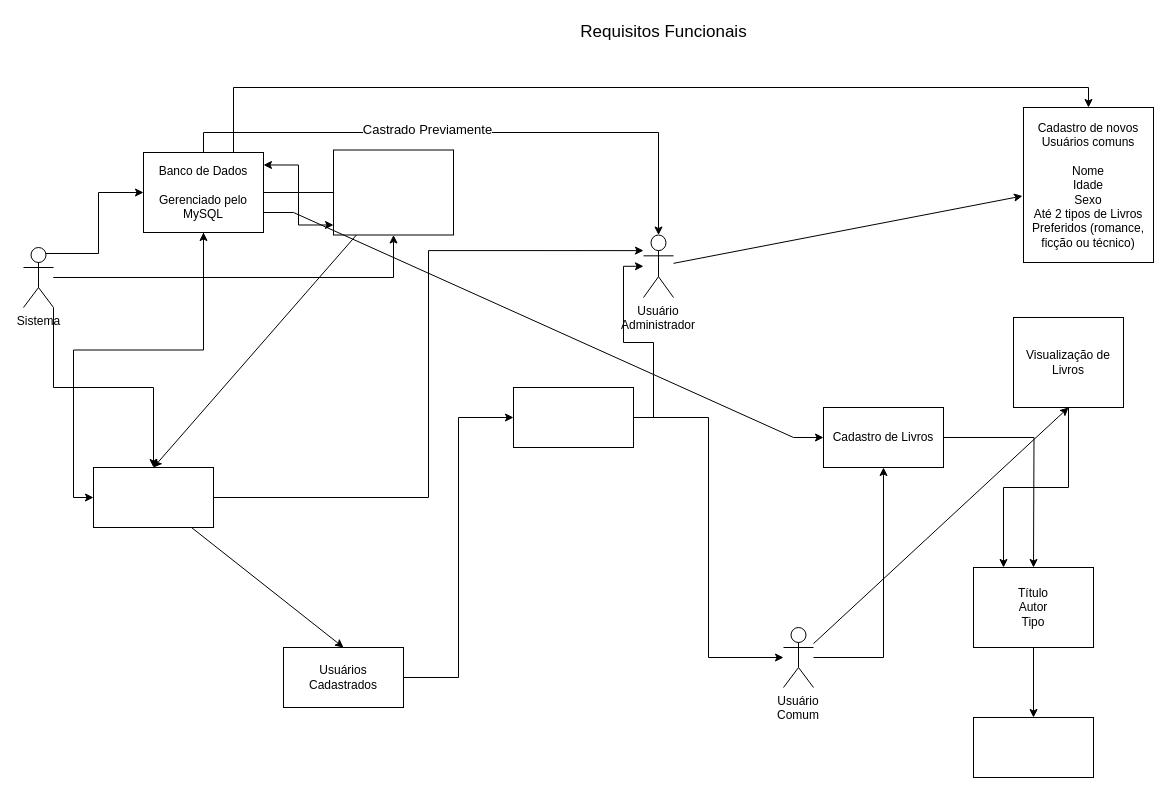
Some shapes in this 1171 by 795 pixel diagram are drawn without their labels. Each missing label, with the box of its shape:
Controle de Acesso Login: (92, 466, 214, 528)
Interface Gráfica javax.swing.: (332, 149, 454, 235)
Nota ao Livro Lido: (972, 716, 1094, 778)
Tipos de Usuários: (512, 386, 634, 448)
